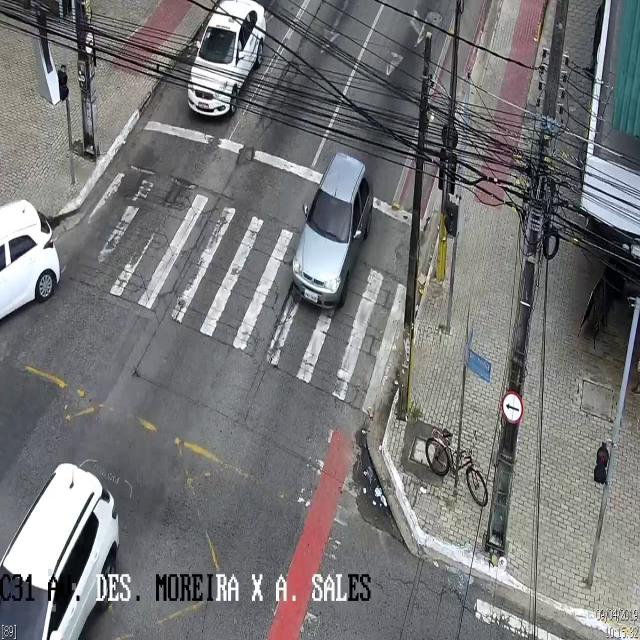Car: (0, 437, 145, 640), (291, 150, 371, 310), (187, 1, 265, 116), (1, 195, 59, 322)
